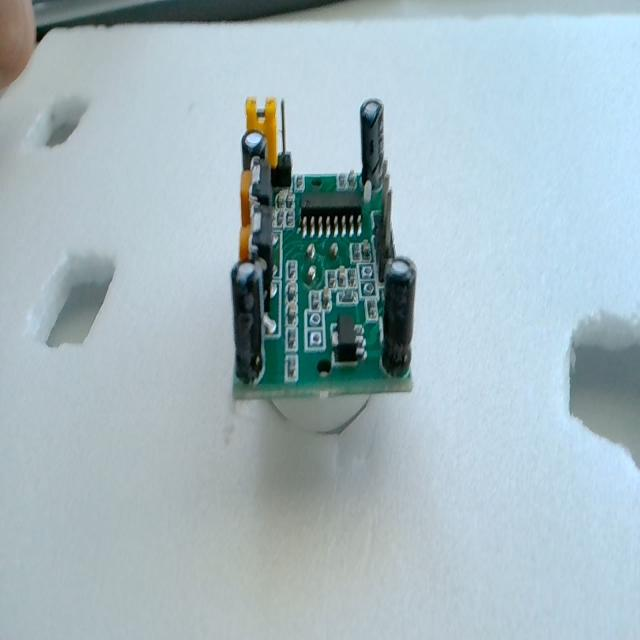Electrolytic capacitor: (229, 256, 269, 389), (382, 257, 417, 376), (360, 97, 385, 194), (241, 130, 267, 174)
IC: (299, 189, 363, 237)
pinheader: (360, 98, 396, 283)
